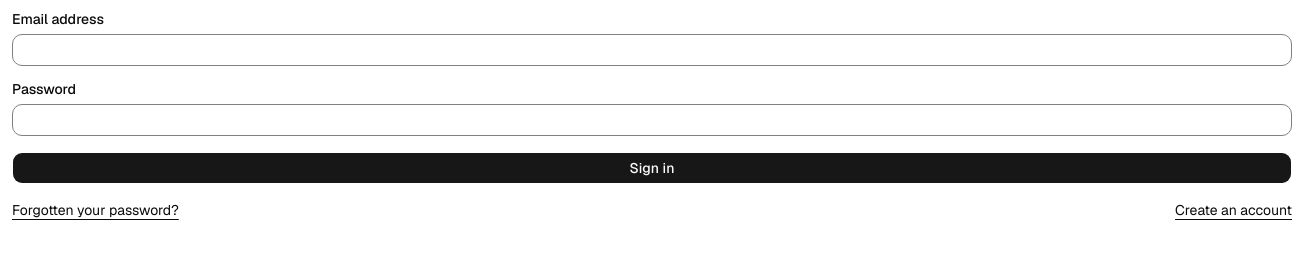
Test case: SignInForm › checks the email address before sending anything
In the field labelled "Email address": (652, 50) [12,34,1292,66], type "not-an-email"
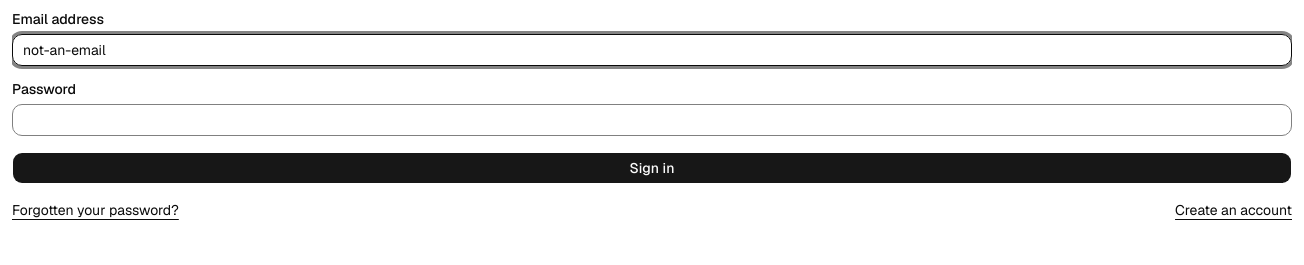
In the password field labelled "Password": (652, 120) [12,104,1292,136], type "whatever"
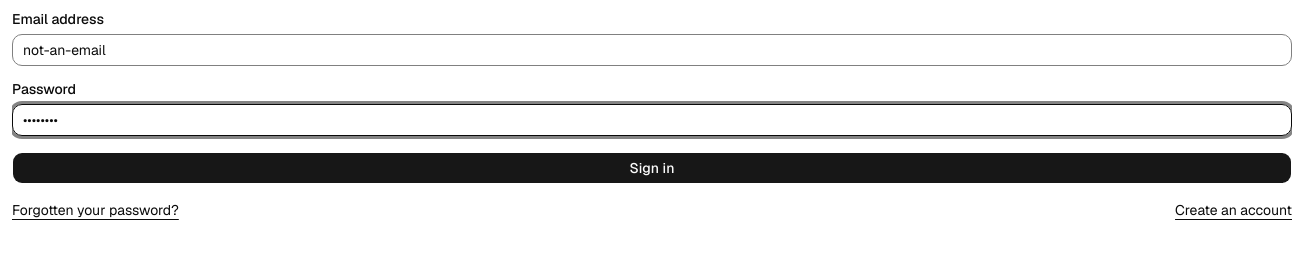
Click the button "Sign in": (652, 168) [12,152,1292,184]
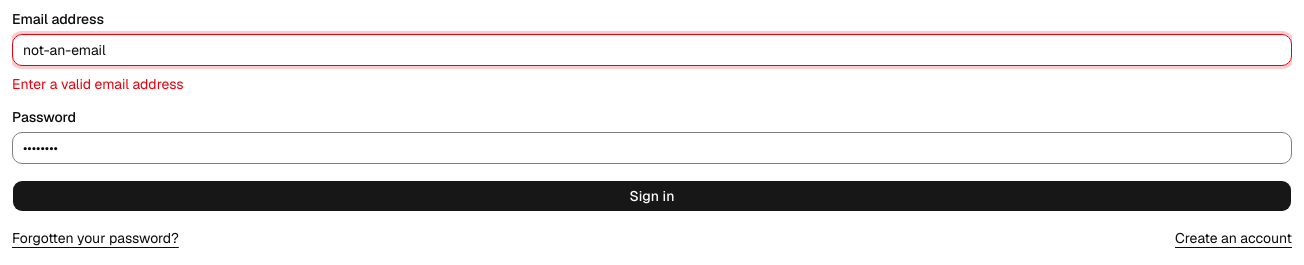
Now the text "Enter a valid email address" is shown, box [12,75,184,93]
